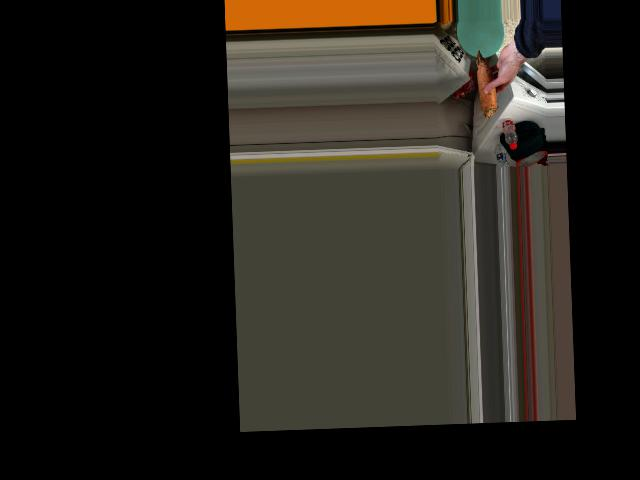sweet_potato: (478, 49, 495, 121)
